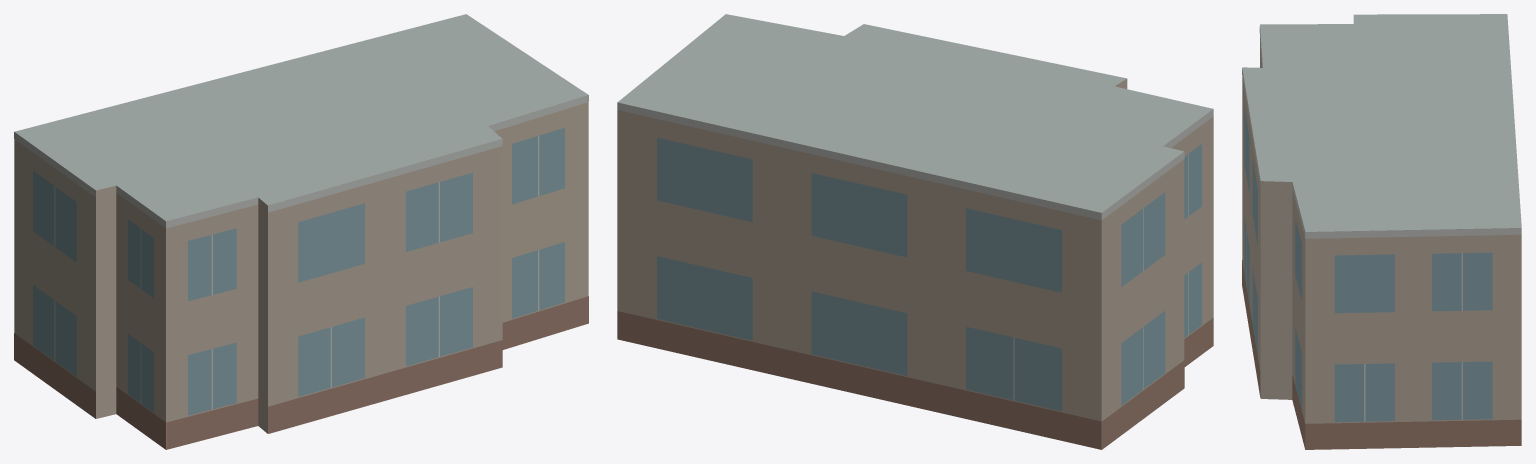
File: survey-upis-32634354.glb
3 renders of one model, left to right at view 1: azimuth 30°, elevation 25°; view 2: azimuth 150°, elevation 25°; view 3: azimuth 270°, elevation 25°, orthographic. The views are drawn at different scales.
Visible parts, largest first — view 1: survey-upis-32634354.tmp; view 2: survey-upis-32634354.tmp; view 3: survey-upis-32634354.tmp.
Part boxes in pixels (x1=…): survey-upis-32634354.tmp: x1=14, y1=14, x2=588, y2=449; survey-upis-32634354.tmp: x1=617, y1=14, x2=1213, y2=449; survey-upis-32634354.tmp: x1=1242, y1=14, x2=1521, y2=449.
Bounding box in the file's own units: 16.75 × 7.8 × 9.08.
